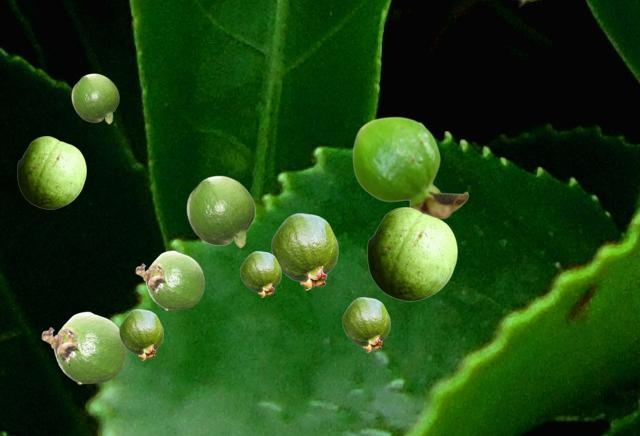guava: (352, 116, 468, 218), (367, 207, 456, 300), (41, 311, 126, 383), (271, 213, 337, 289), (17, 136, 85, 208), (186, 175, 254, 247), (135, 250, 204, 309), (342, 297, 389, 351), (71, 73, 118, 123), (119, 309, 162, 359), (240, 251, 280, 296)
